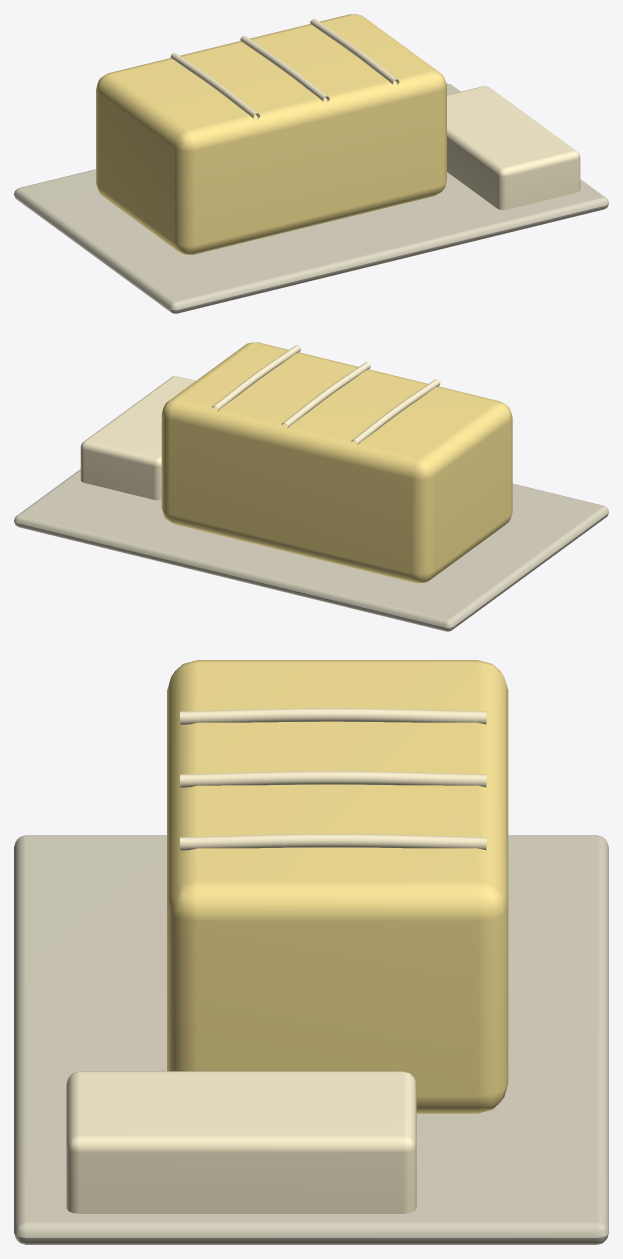
File: butter.glb
3 renders of one model, top to bottom at view 1: azimuth 30°, elevation 25°; view 2: azimuth 150°, elevation 25°; view 3: azimuth 270°, elevation 25°, orthographic. The views are drawn at different scales.
Visible parts, largest first — view 1: butter_mesh; view 2: butter_mesh; view 3: butter_mesh.
Boxes of the visible parts, box(x1,y1,x2,y2) form: butter_mesh: box(14, 14, 608, 313); butter_mesh: box(14, 342, 608, 631); butter_mesh: box(14, 660, 608, 1244).
Bounding box in the file's own units: 0.2675 × 0.0822 × 0.17.
